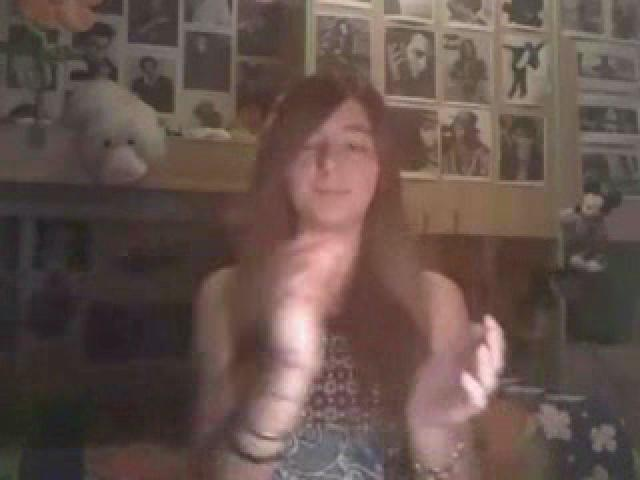F: (189, 59, 496, 480)
